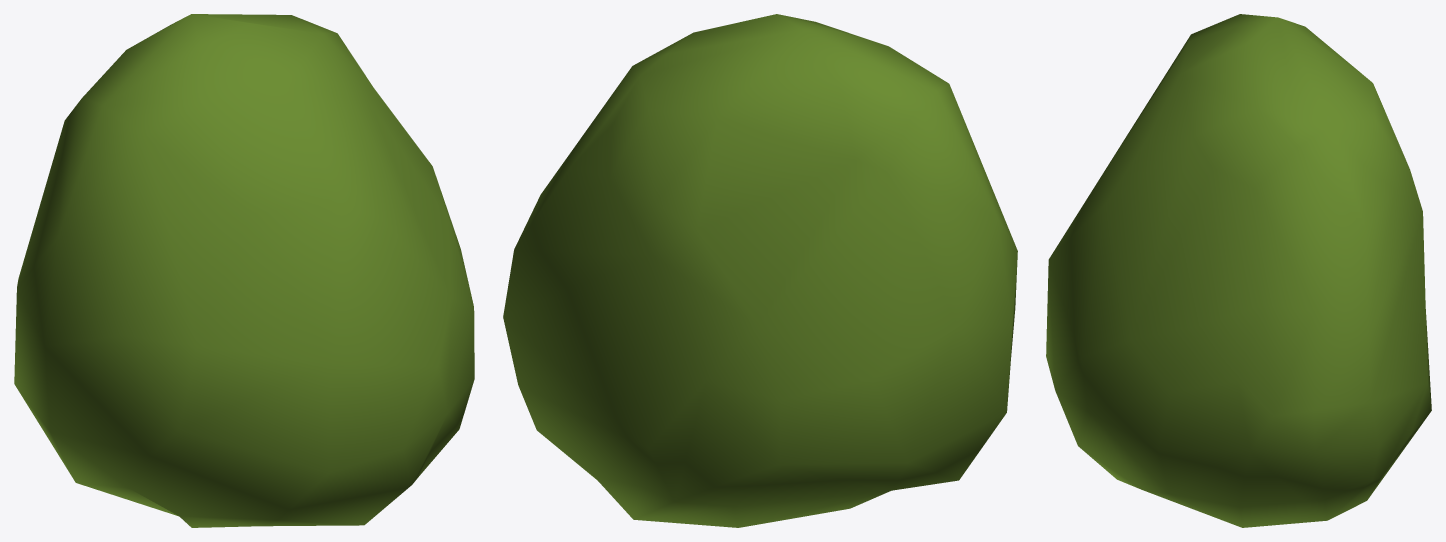
The model's file is Sm_Bush1l.fbx.
The picture shows the model from 3 angles, left to right: view 1: azimuth 30°, elevation 25°; view 2: azimuth 150°, elevation 25°; view 3: azimuth 270°, elevation 25°; orthographic projection. The views are drawn at different scales.
Visible parts, largest first — view 1: Sm_Bush1.001; view 2: Sm_Bush1.001; view 3: Sm_Bush1.001.
Part boxes in pixels (<box>): Sm_Bush1.001: <box>14,14,474,527</box>; Sm_Bush1.001: <box>503,14,1017,527</box>; Sm_Bush1.001: <box>1046,14,1431,527</box>.
Size of the model in its own units: 95.36 by 102 by 80.05.
